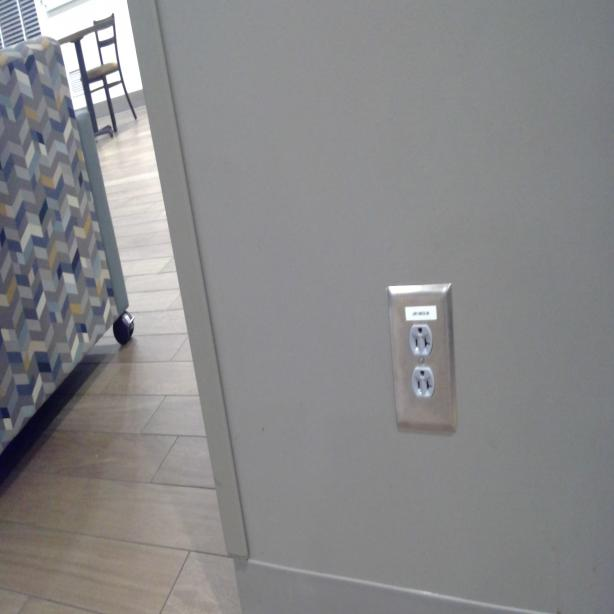typeb: (408, 320, 433, 356), (414, 369, 433, 398)
